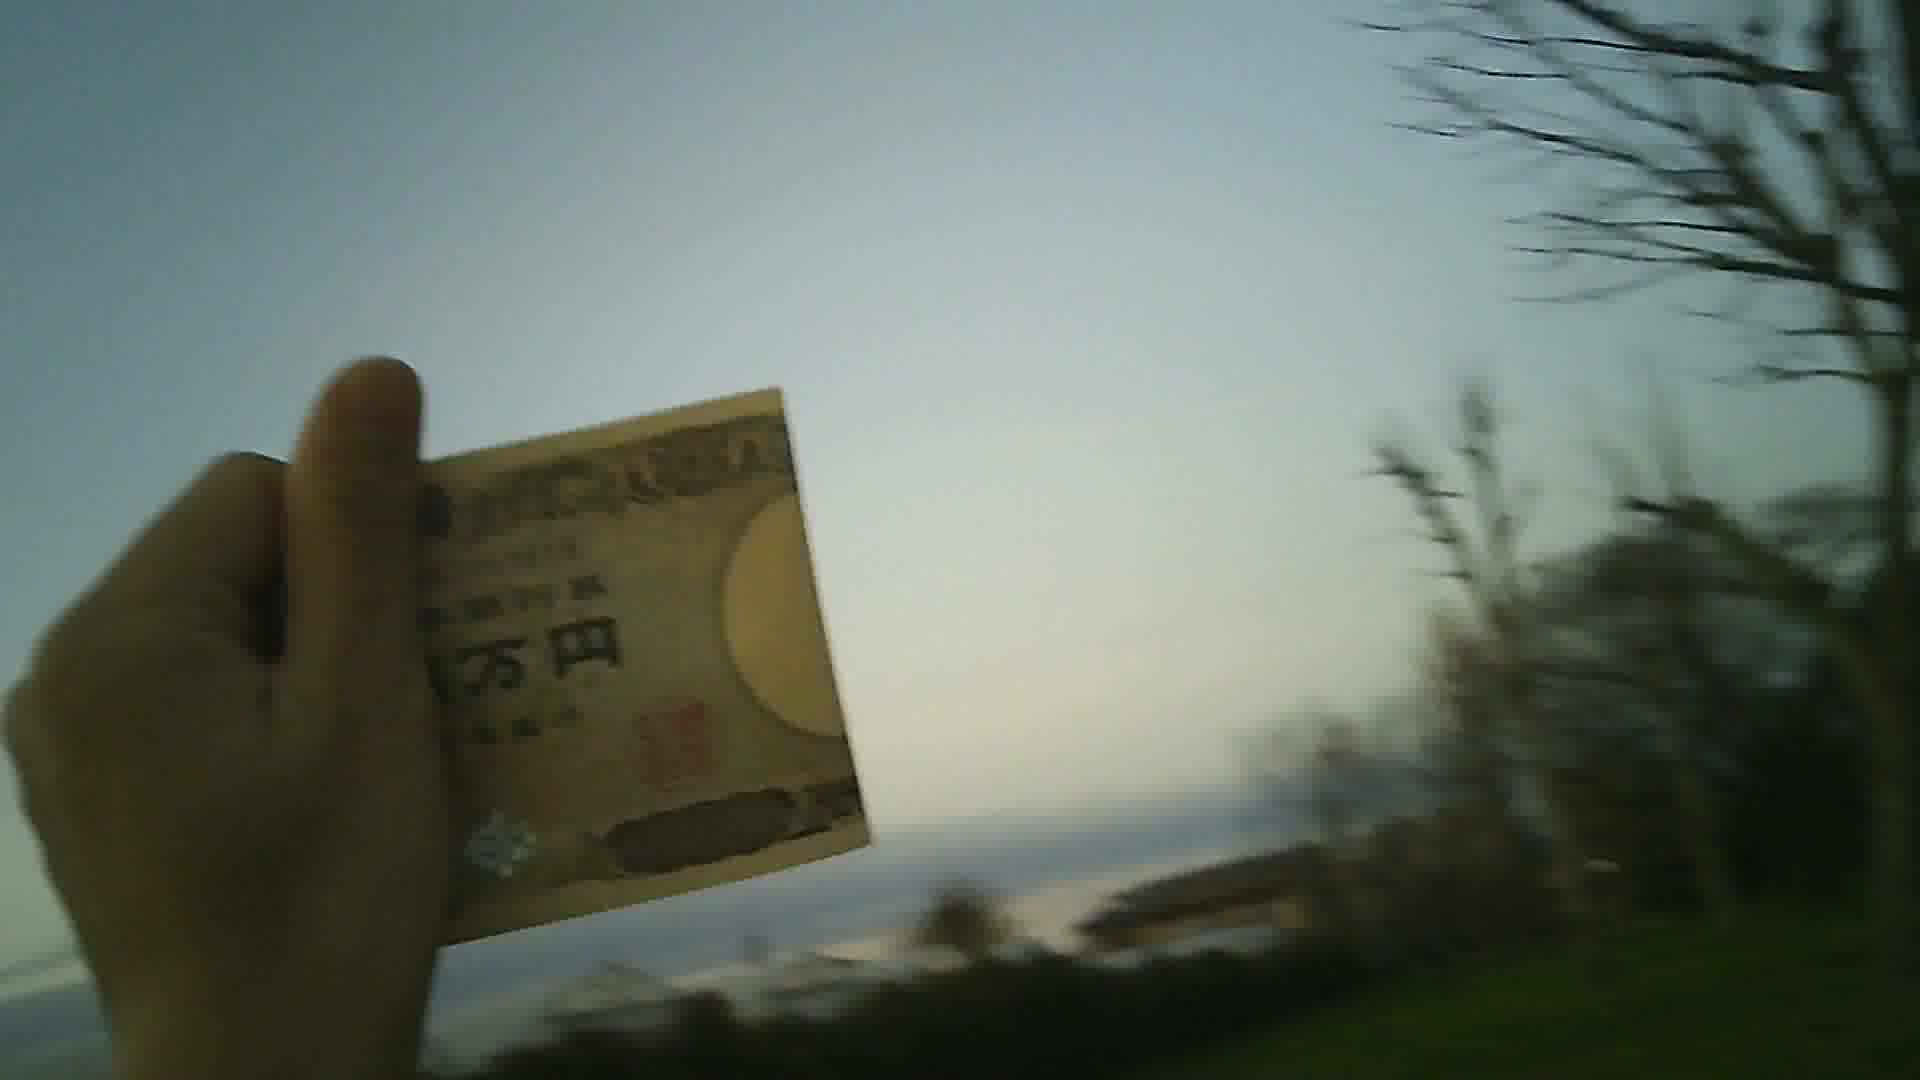10,000 Yen: (327, 375, 895, 949)
